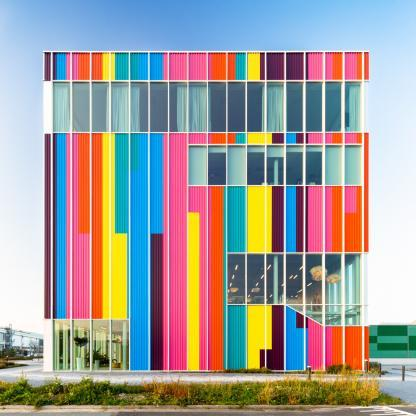Building Outline: (42, 50, 369, 373)
Dont: (210, 359, 370, 373)
Facade: (44, 52, 370, 372)
Floor: (44, 245, 370, 304), (44, 189, 370, 241), (44, 135, 370, 185)
Floor Slab: (44, 241, 370, 245), (44, 185, 370, 189), (44, 132, 370, 136), (44, 304, 370, 308)
Glass Wall: (286, 254, 304, 305), (325, 254, 343, 305), (111, 82, 129, 132), (130, 82, 148, 132), (169, 82, 187, 132), (208, 82, 226, 132), (247, 82, 265, 132), (266, 82, 284, 132), (286, 82, 304, 132), (325, 82, 343, 132), (344, 82, 362, 132), (111, 320, 129, 370), (72, 320, 90, 370), (92, 320, 110, 370), (228, 254, 245, 305), (248, 254, 265, 305), (267, 254, 284, 305), (306, 254, 323, 305), (345, 254, 362, 305), (53, 82, 70, 132), (73, 82, 90, 132), (92, 82, 109, 132), (150, 82, 167, 132), (228, 82, 245, 132), (306, 82, 323, 132), (189, 82, 206, 132), (53, 320, 70, 370), (208, 145, 226, 185), (189, 145, 206, 185), (345, 145, 362, 185), (228, 145, 245, 185), (248, 145, 265, 185), (267, 145, 284, 185), (286, 145, 303, 185), (306, 145, 323, 185), (326, 145, 343, 185), (325, 305, 343, 326), (305, 305, 323, 325), (345, 305, 362, 326), (365, 82, 369, 132), (365, 254, 368, 305), (287, 305, 304, 314), (365, 305, 368, 326)
Ground Floor: (44, 308, 370, 372)
Top Floor: (44, 52, 370, 132)
